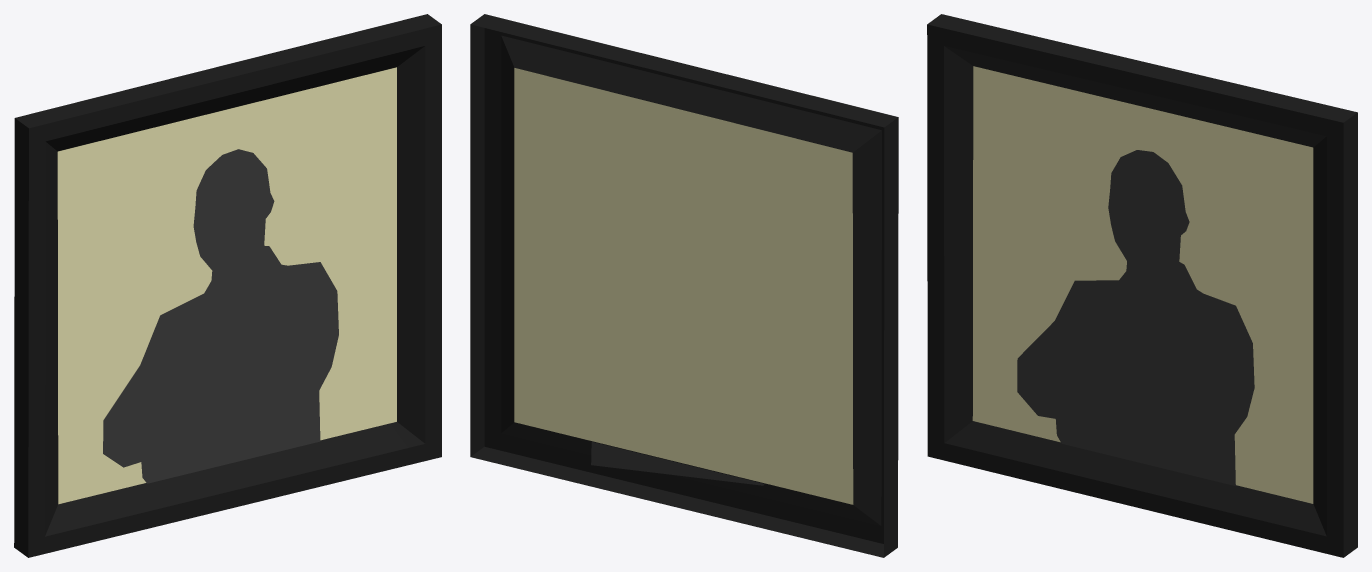
File: picture_005.glb
3 renders of one model, left to right at view 1: azimuth 30°, elevation 25°; view 2: azimuth 150°, elevation 25°; view 3: azimuth 330°, elevation 25°, orthographic.
Parts seen in each view (by area): view 1: picture_005; view 2: picture_005; view 3: picture_005.
Boxes of the visible parts, box(x1,y1,x2,y2) form: picture_005: box(14, 14, 441, 557); picture_005: box(470, 14, 898, 557); picture_005: box(927, 14, 1357, 557).
Bounding box in the file's own units: 1.26 × 1.26 × 0.0778.
1 material, 1 textured.
